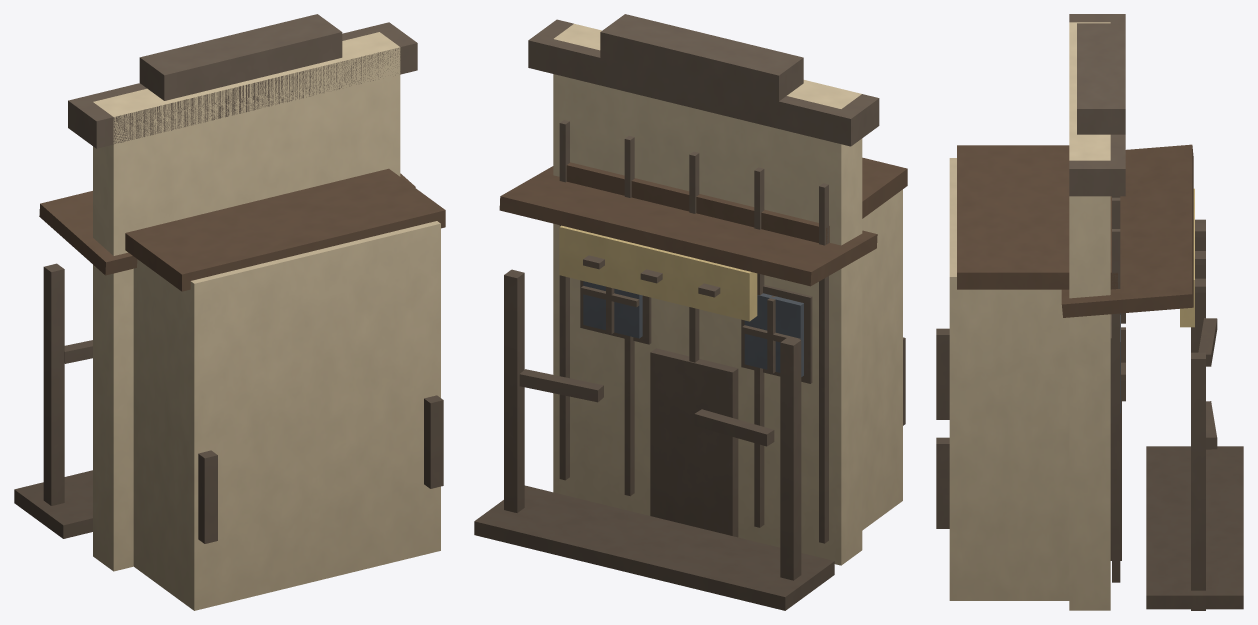
File: town_facade_warm.glb
3 renders of one model, left to right at view 1: azimuth 30°, elevation 25°; view 2: azimuth 150°, elevation 25°; view 3: azimuth 270°, elevation 25°, orthographic.
Visible parts, largest first — view 1: town_facade_warm; view 2: town_facade_warm; view 3: town_facade_warm.
Part boxes in pixels (bbox=[...]): town_facade_warm: bbox=[14, 14, 445, 610]; town_facade_warm: bbox=[474, 14, 907, 610]; town_facade_warm: bbox=[936, 14, 1243, 610].
Size of the model in its own units: 1.96 by 2.8 by 1.64.
Materials: 1 (1 with a texture image).
